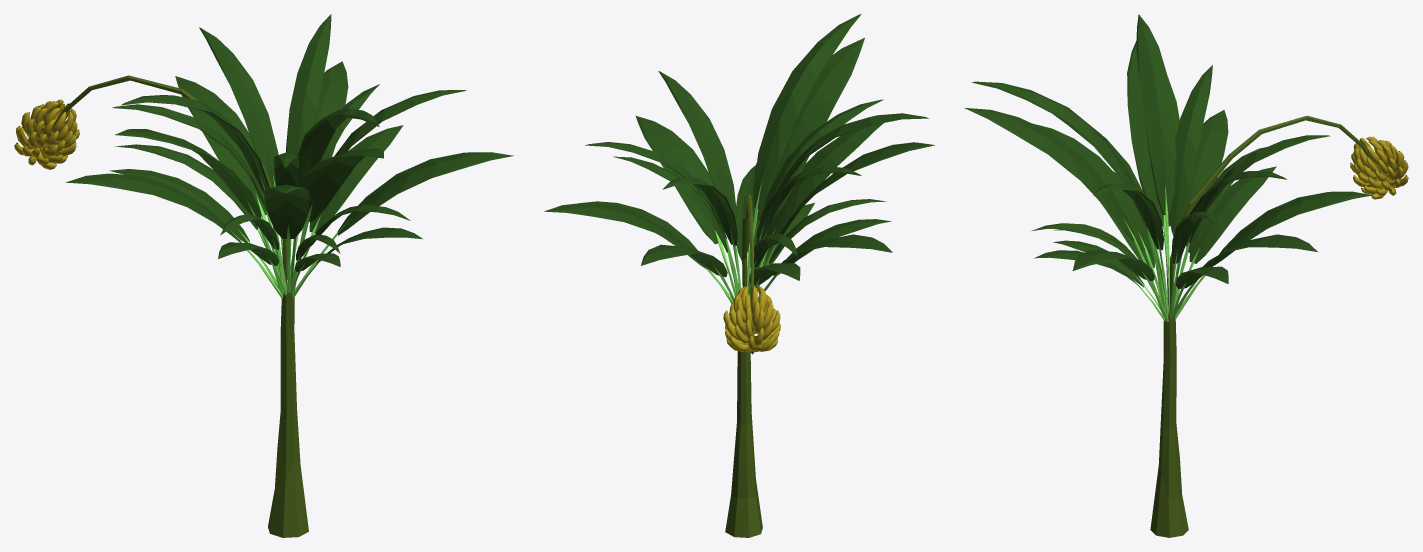
Rendered from SM_BananaTree_001_LOD3.fbx.
The picture shows the model from 3 angles, left to right: view 1: azimuth 30°, elevation 25°; view 2: azimuth 150°, elevation 25°; view 3: azimuth 270°, elevation 25°; orthographic projection. The views are drawn at different scales.
Parts seen in each view (by area): view 1: BananaTree; view 2: BananaTree; view 3: BananaTree.
Boxes of the visible parts, left/top/right/bottom form: BananaTree: left=14, top=14, right=513, bottom=537; BananaTree: left=544, top=14, right=934, bottom=537; BananaTree: left=964, top=14, right=1408, bottom=537.
Bounding box in the file's own units: 274 × 350 × 320.
